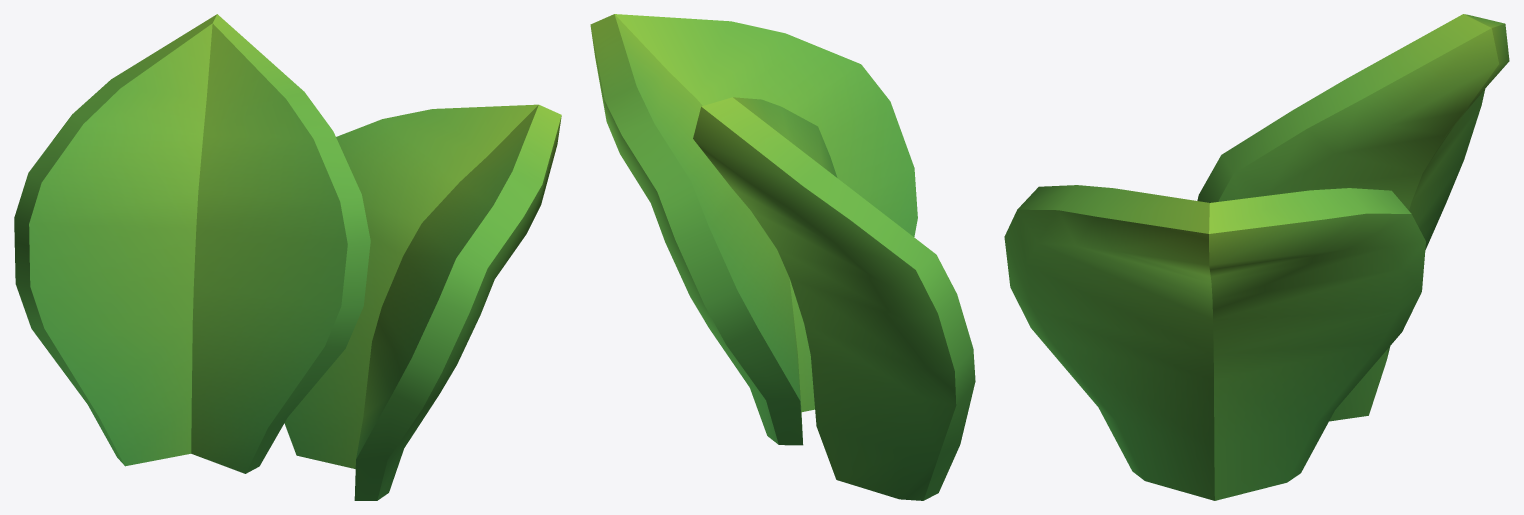
File: foliage_A.fbx
3 renders of one model, left to right at view 1: azimuth 30°, elevation 25°; view 2: azimuth 150°, elevation 25°; view 3: azimuth 270°, elevation 25°, orthographic. The views are drawn at different scales.
Visible parts, largest first — view 1: foliage_A; view 2: foliage_A; view 3: foliage_A.
Part boxes in pixels (x1,y1,x2,y2): foliage_A: (14, 14, 561, 500); foliage_A: (590, 14, 975, 500); foliage_A: (1004, 14, 1509, 500).
Bounding box in the file's own units: 52.75 × 43.19 × 44.5.
